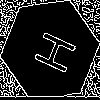H: (25, 25, 77, 77)
